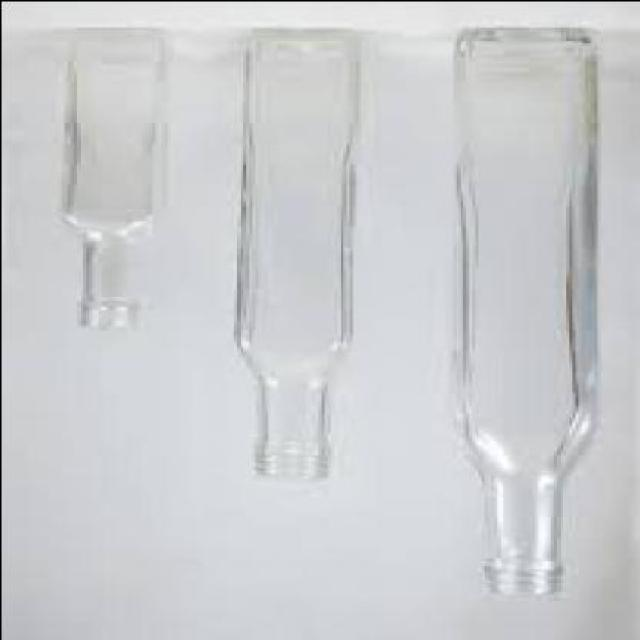GLASS: (445, 28, 593, 601), (232, 33, 358, 479), (59, 31, 170, 332)
